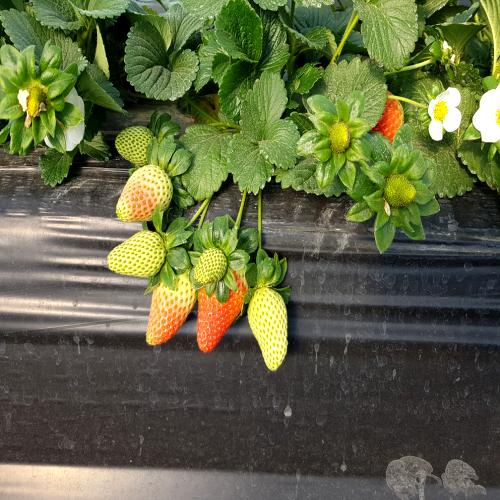partially-ripe: (124, 152, 186, 225), (153, 258, 193, 351)
ripe: (201, 252, 243, 352)
unripe: (104, 221, 170, 282), (249, 282, 291, 366), (193, 240, 236, 289)
